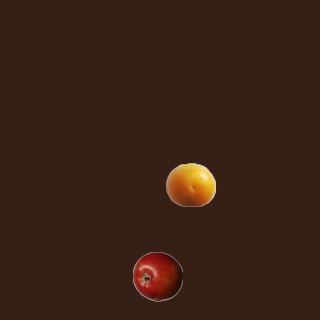Apple Braeburn: (132, 251, 182, 301)
Cherry Wax Yellow: (165, 159, 215, 209)
